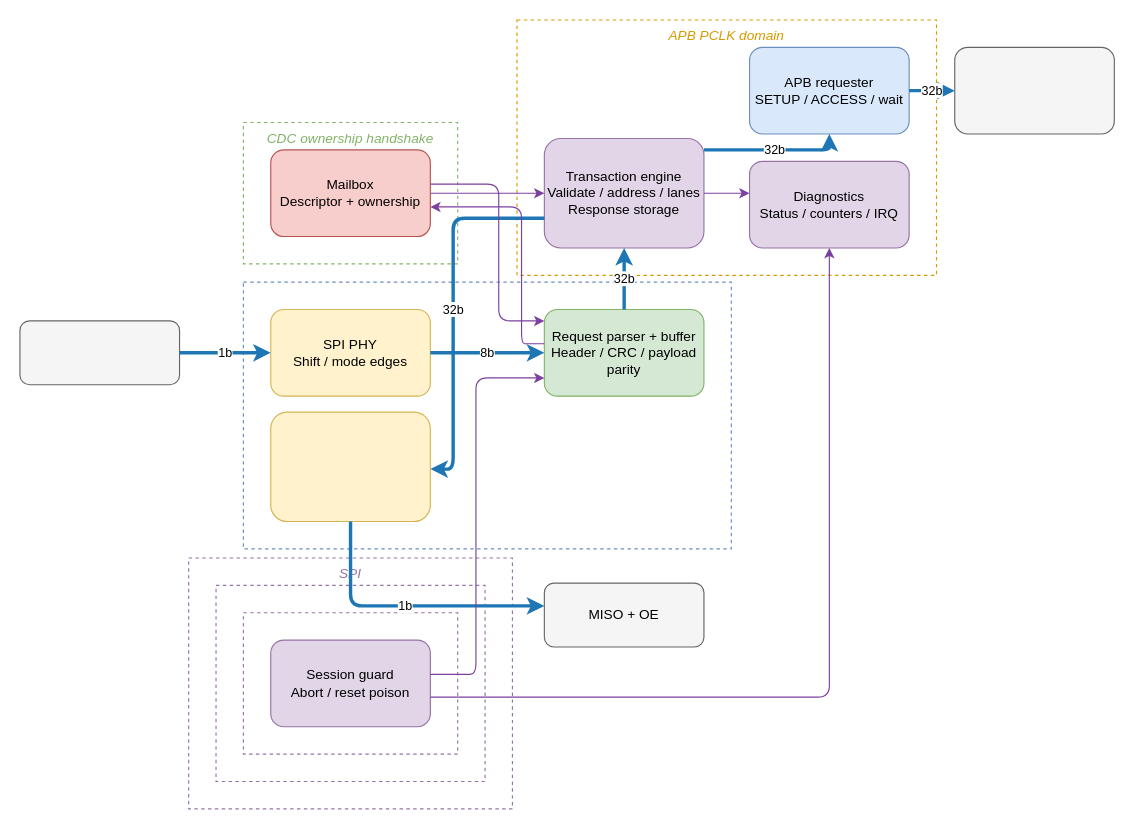
Some shapes in this 1134 by 829 pixel diagram are drawn without their labels. The box of each missing label's shape, as (x1, y1, x2, y2) in pixels:
APB3 / APB4 32-bit data: (954, 46, 1114, 134)
CS event domains: (242, 612, 458, 754)
MOSI: (19, 320, 180, 385)
PCLK: (215, 584, 485, 781)
Response serializer WAIT / START / CRC16 Output via PHY: (270, 411, 430, 522)
SPI sampling domain: (242, 281, 731, 549)
